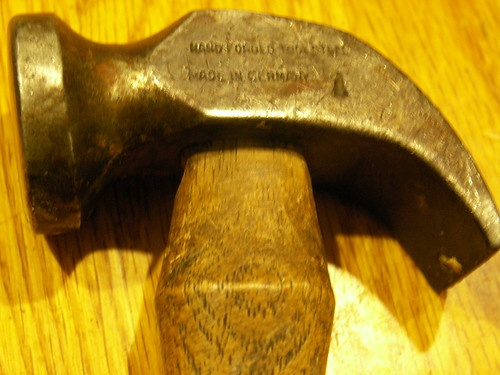hammer: (7, 6, 489, 374)
